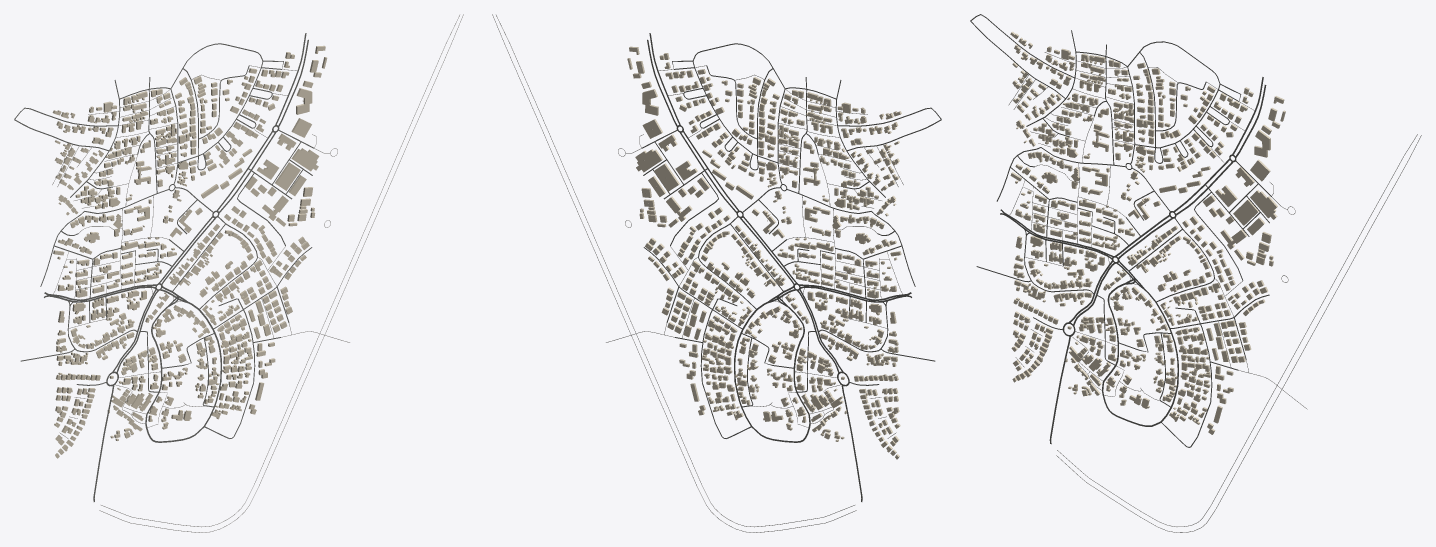
File: historic-palestine-04_22_3458_3165.glb
3 renders of one model, left to right at view 1: azimuth 30°, elevation 25°; view 2: azimuth 150°, elevation 25°; view 3: azimuth 330°, elevation 25°, orthographic.
Visible parts, largest first — view 1: Road .046, Road .042; view 2: Road .046, Road .042; view 3: Road .046, Road .042.
Part boxes in pixels (x1,y1,x2,y2): Road .046: (99,14,463,532); Road .042: (101,15,459,527); Road .046: (492,14,856,532); Road .042: (496,15,854,527); Road .046: (1056,135,1421,532); Road .042: (1057,134,1417,526).
Bounding box in the file's own units: 1512 × 1565 × 8.7.
